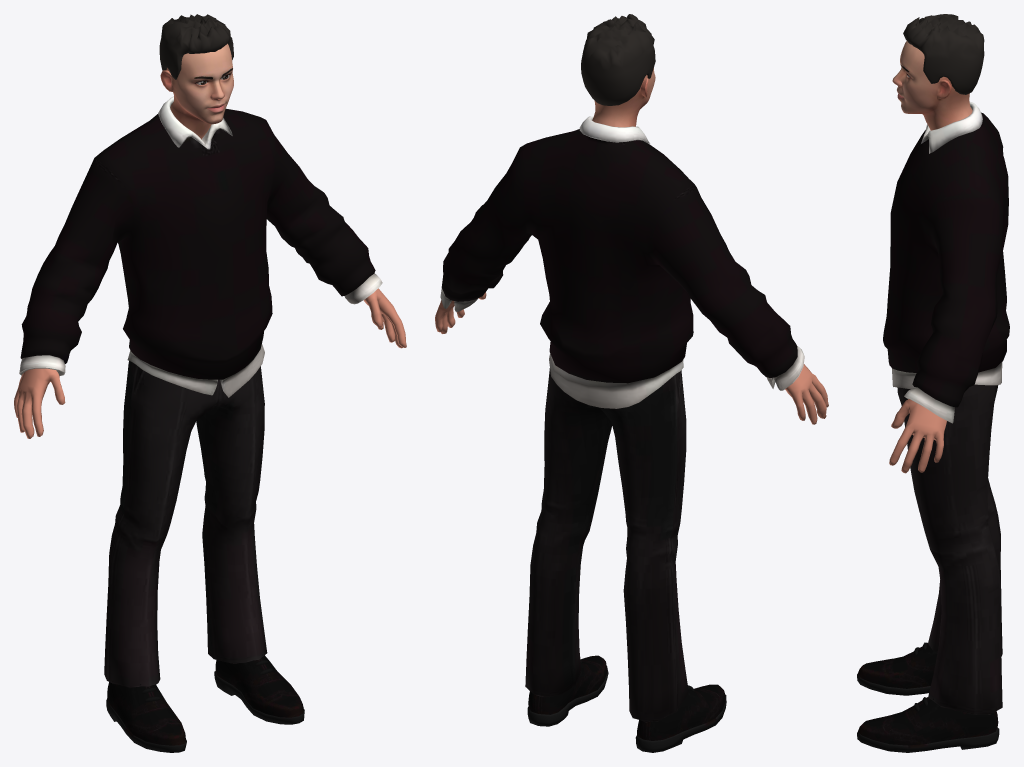
Rendered from avatar_gltf.gltf.
3 renders of one model, left to right at view 1: azimuth 30°, elevation 25°; view 2: azimuth 150°, elevation 25°; view 3: azimuth 270°, elevation 25°, orthographic.
Parts seen in each view (by area): view 1: Wolf3D_Outfit_Top, Wolf3D_Outfit_Bottom, Wolf3D_Outfit_Footwear, Wolf3D_Head, Wolf3D_Body, Wolf3D_Hair; view 2: Wolf3D_Outfit_Top, Wolf3D_Outfit_Bottom, Wolf3D_Outfit_Footwear, Wolf3D_Hair, Wolf3D_Body, Wolf3D_Head; view 3: Wolf3D_Outfit_Top, Wolf3D_Outfit_Bottom, Wolf3D_Outfit_Footwear, Wolf3D_Hair, Wolf3D_Head, Wolf3D_Body.
Part boxes in pixels (x1,y1,x2,y2): Wolf3D_Outfit_Top: (19, 96, 382, 397); Wolf3D_Outfit_Bottom: (104, 361, 267, 688); Wolf3D_Outfit_Footwear: (106, 654, 304, 752); Wolf3D_Head: (160, 43, 233, 139); Wolf3D_Body: (14, 288, 406, 438); Wolf3D_Hair: (159, 14, 233, 79); Wolf3D_Outfit_Top: (440, 116, 804, 408); Wolf3D_Outfit_Bottom: (525, 368, 688, 722); Wolf3D_Outfit_Footwear: (527, 655, 726, 752); Wolf3D_Hair: (581, 14, 655, 105); Wolf3D_Body: (435, 292, 828, 424); Wolf3D_Head: (592, 68, 655, 127); Wolf3D_Outfit_Top: (883, 102, 1009, 423); Wolf3D_Outfit_Bottom: (897, 384, 1002, 714); Wolf3D_Outfit_Footwear: (857, 642, 999, 752); Wolf3D_Hair: (903, 14, 984, 94); Wolf3D_Head: (892, 41, 972, 130); Wolf3D_Body: (889, 399, 946, 473).
Bounding box in the file's own units: 1.06 × 1.86 × 0.3697.
9 materials, 9 textured.
